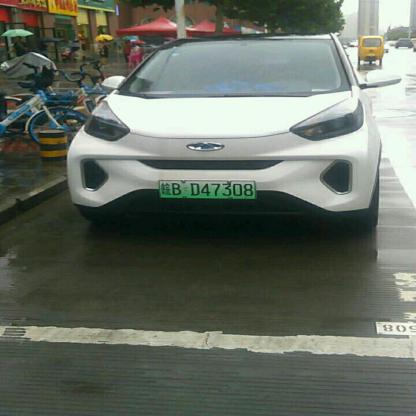lp: (158, 180, 256, 197)
